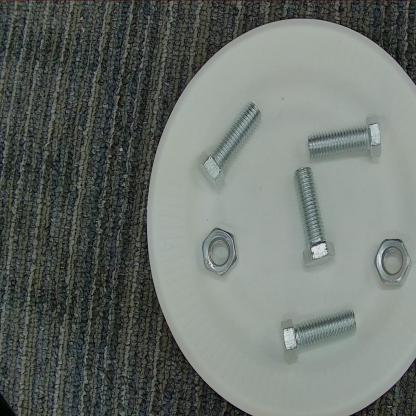FOD: (194, 96, 265, 193), (285, 163, 338, 276), (276, 306, 364, 364), (302, 111, 387, 166), (370, 231, 413, 294), (196, 226, 239, 281)
